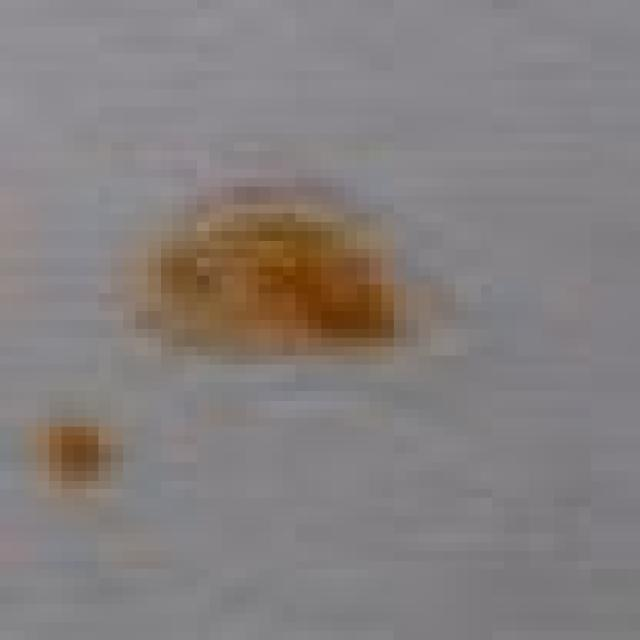Thread_other: (0, 92, 532, 524)
